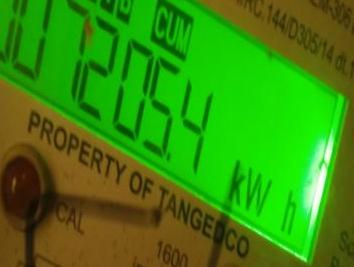.: (226, 156, 300, 239)
0: (162, 150, 176, 164)
1: (114, 38, 156, 138), (10, 0, 54, 86), (0, 0, 20, 75)
3: (75, 15, 121, 122)
5: (180, 78, 217, 174)
6: (143, 55, 180, 157)
8: (63, 0, 91, 102)
